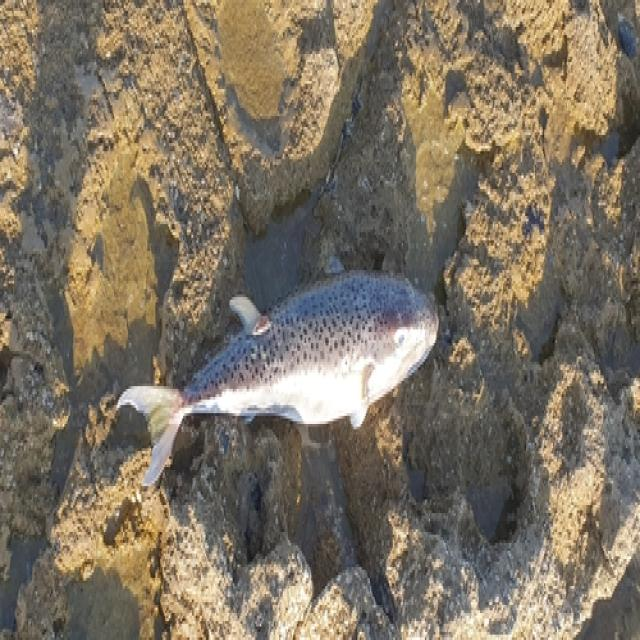Balik: (118, 273, 437, 486)
